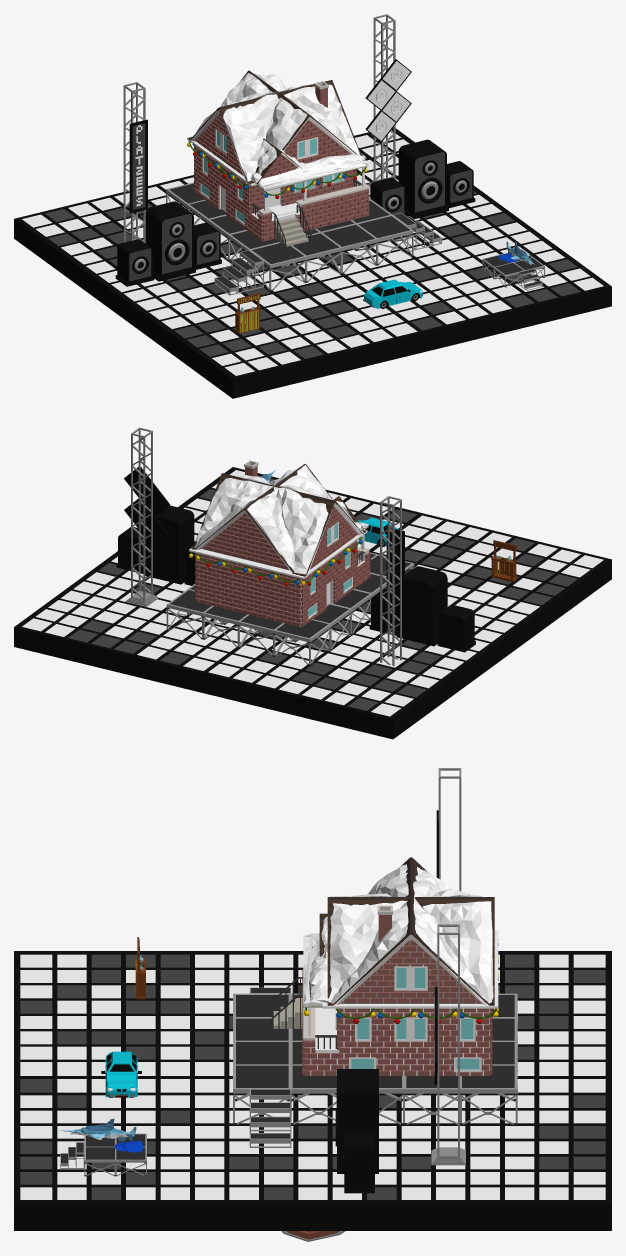
3 views of the same model, one above another, from view 1: azimuth 30°, elevation 25°; view 2: azimuth 150°, elevation 25°; view 3: azimuth 270°, elevation 25° (orthographic). The views are drawn at different scales.
Visible parts, largest first — view 1: Cube.008, Cube.1419, VEHICLES_CAR, OBJRANDOM_LEMONADE_STAND; view 2: Cube.008, Cube.1419, OBJRANDOM_LEMONADE_STAND, VEHICLES_CAR; view 3: Cube.008, Cube.1419, VEHICLES_CAR, ANIMAL_PEZ_ESPADA.
Part boxes in pixels (left/top/right/bottom): Cube.008: left=14, top=14, right=611, bottom=398; Cube.1419: left=187, top=70, right=370, bottom=247; VEHICLES_CAR: left=363, top=279, right=423, bottom=308; OBJRANDOM_LEMONADE_STAND: left=235, top=293, right=260, bottom=333; Cube.008: left=14, top=427, right=611, bottom=739; Cube.1419: left=189, top=460, right=371, bottom=626; OBJRANDOM_LEMONADE_STAND: left=491, top=540, right=516, bottom=582; VEHICLES_CAR: left=357, top=517, right=399, bottom=546; Cube.008: left=14, top=768, right=611, bottom=1230; Cube.1419: left=271, top=857, right=498, bottom=1075; VEHICLES_CAR: left=101, top=1051, right=141, bottom=1097; ANIMAL_PEZ_ESPADA: left=60, top=1118, right=143, bottom=1152.
Size of the model in its own units: 4000 by 2688 by 4000.
55 materials, 1 textured.
